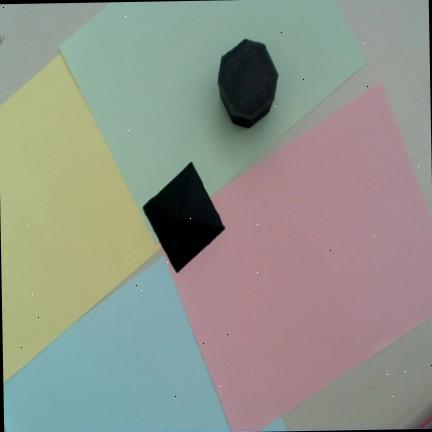Piramide: (141, 161, 225, 272)
Prisma_hexagonal: (217, 38, 278, 128)
